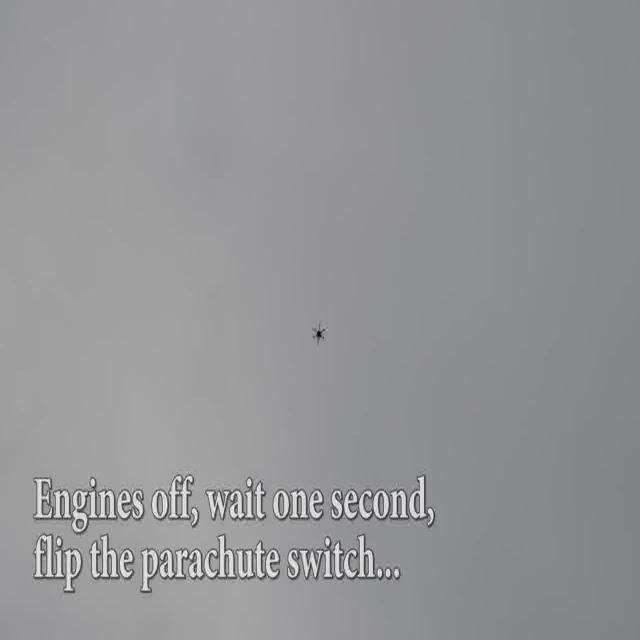drone: (312, 320, 328, 346)
